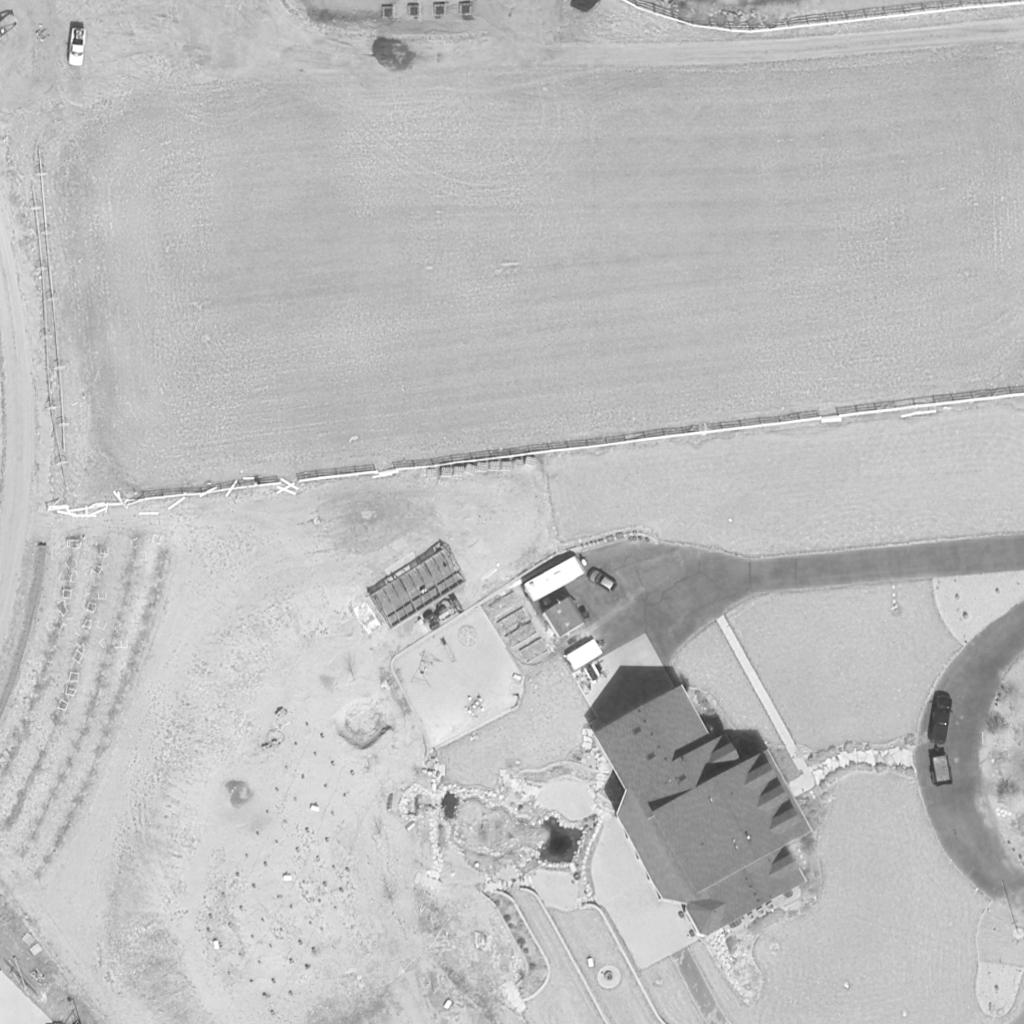vehicle: (520, 553, 592, 605), (417, 595, 465, 637), (565, 636, 607, 674), (930, 695, 954, 743), (587, 568, 619, 594), (67, 27, 87, 67)
